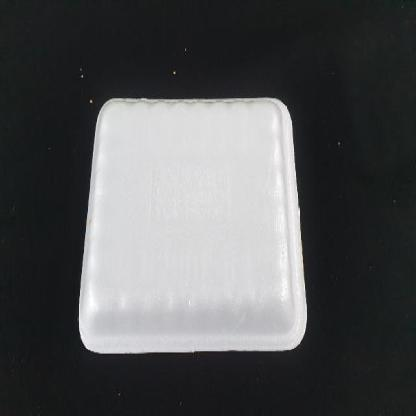Glass Cup: (78, 96, 308, 352), (78, 97, 307, 353)
